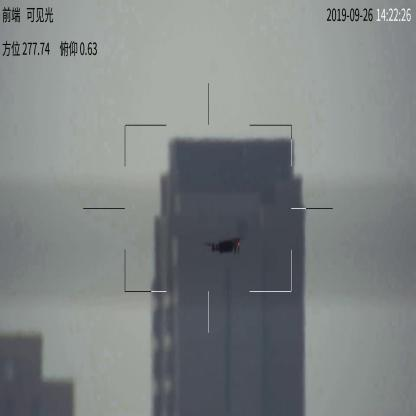uav: (206, 233, 244, 255)
